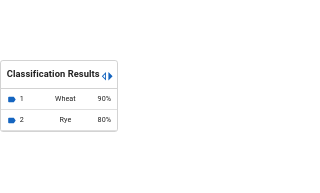
Test case: ResultsTable › row expansion › switches expansion to the newly clicked row
Click the row "1 Wheat 90%": (59, 99) [1, 89, 117, 110]
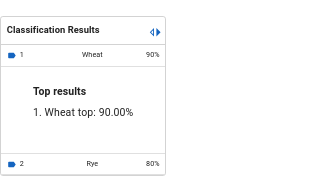
Expected: the text "1. Wheat top: 90.00%" is shown, [33, 104, 133, 121]
Click the text "Rye": (92, 164) [67, 154, 118, 175]
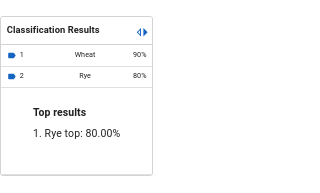
Expected: the text "1. Rye top: 80.00%" is shown, [33, 125, 120, 142]
